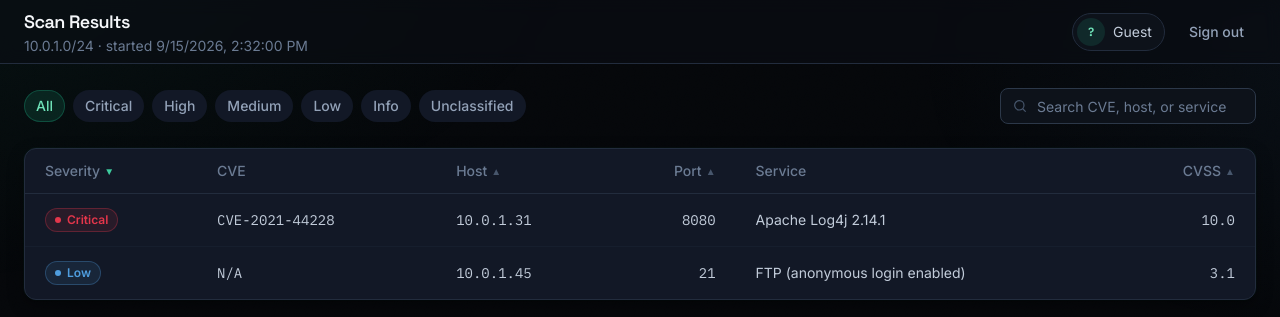
Test case: ScanResults › filters by severity
Check: the text "CVE-2021-44228" is shown, box [217,211,335,229]
Click the button "low" at (327, 106), box [301,90,353,122]
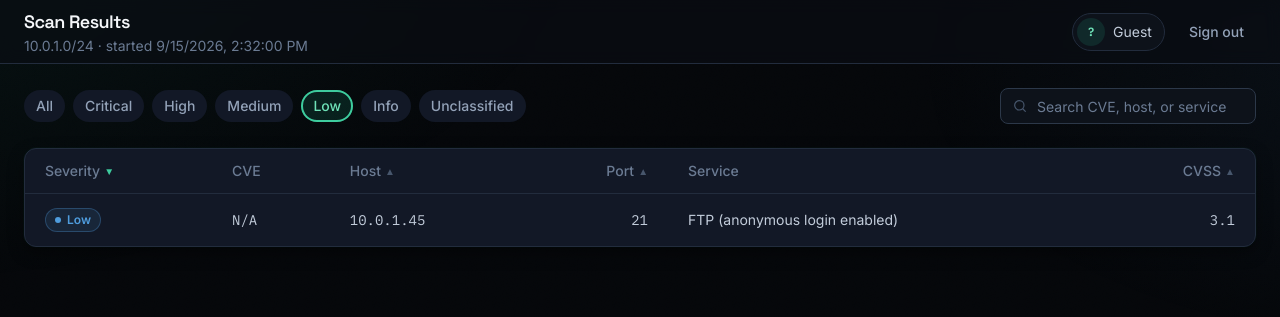
Check: the text "N/A" is shown, box [232,211,257,229]
Check: the text "CVE-2021-44228" is gone
